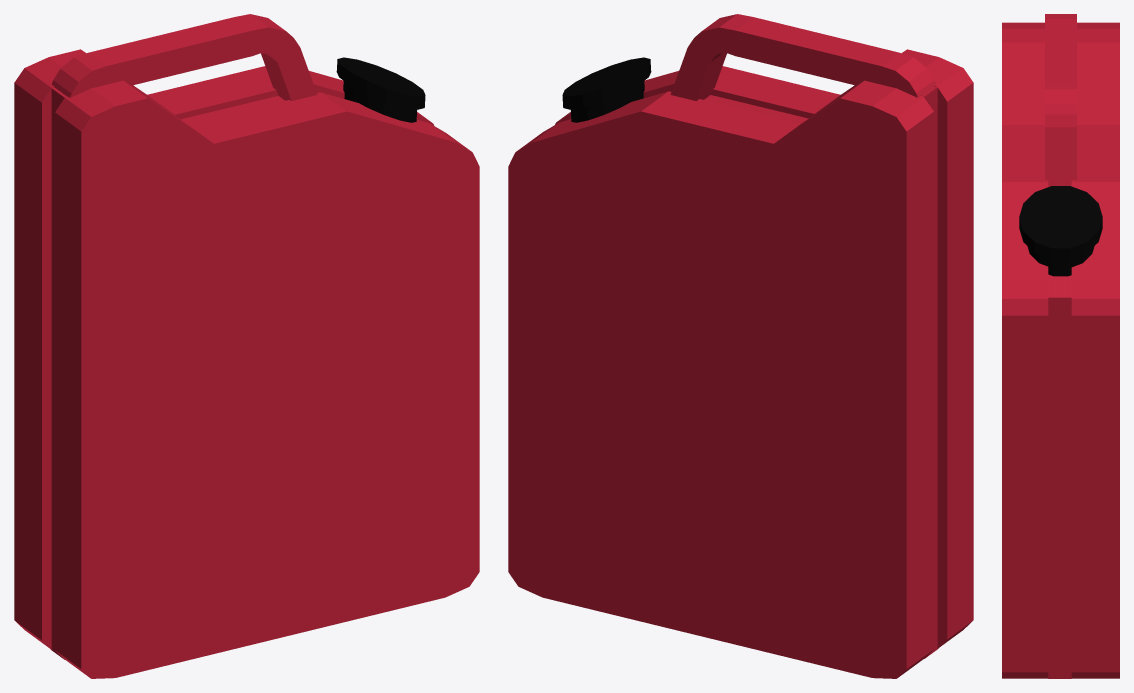
File: Fuel.glb
3 views of the same model, side by side, from view 1: azimuth 30°, elevation 25°; view 2: azimuth 150°, elevation 25°; view 3: azimuth 270°, elevation 25° (orthographic). The views are drawn at different scales.
Visible parts, largest first — view 1: Cube, Cube.001, Cylinder; view 2: Cube, Cube.001, Cylinder; view 3: Cube, Cylinder, Cube.001.
Boxes of the visible parts, x1=… form: Cube: x1=14, y1=49, x2=479, y2=678; Cube.001: x1=51, y1=14, x2=317, y2=100; Cylinder: x1=336, y1=57, x2=425, y2=122; Cube: x1=508, y1=49, x2=973, y2=678; Cube.001: x1=670, y1=14, x2=936, y2=100; Cylinder: x1=562, y1=57, x2=651, y2=122; Cube: x1=1002, y1=22, x2=1119, y2=678; Cylinder: x1=1019, y1=186, x2=1102, y2=276; Cube.001: x1=1045, y1=14, x2=1076, y2=186.
Size of the model in its own units: 4.19 by 5.94 by 1.22.
